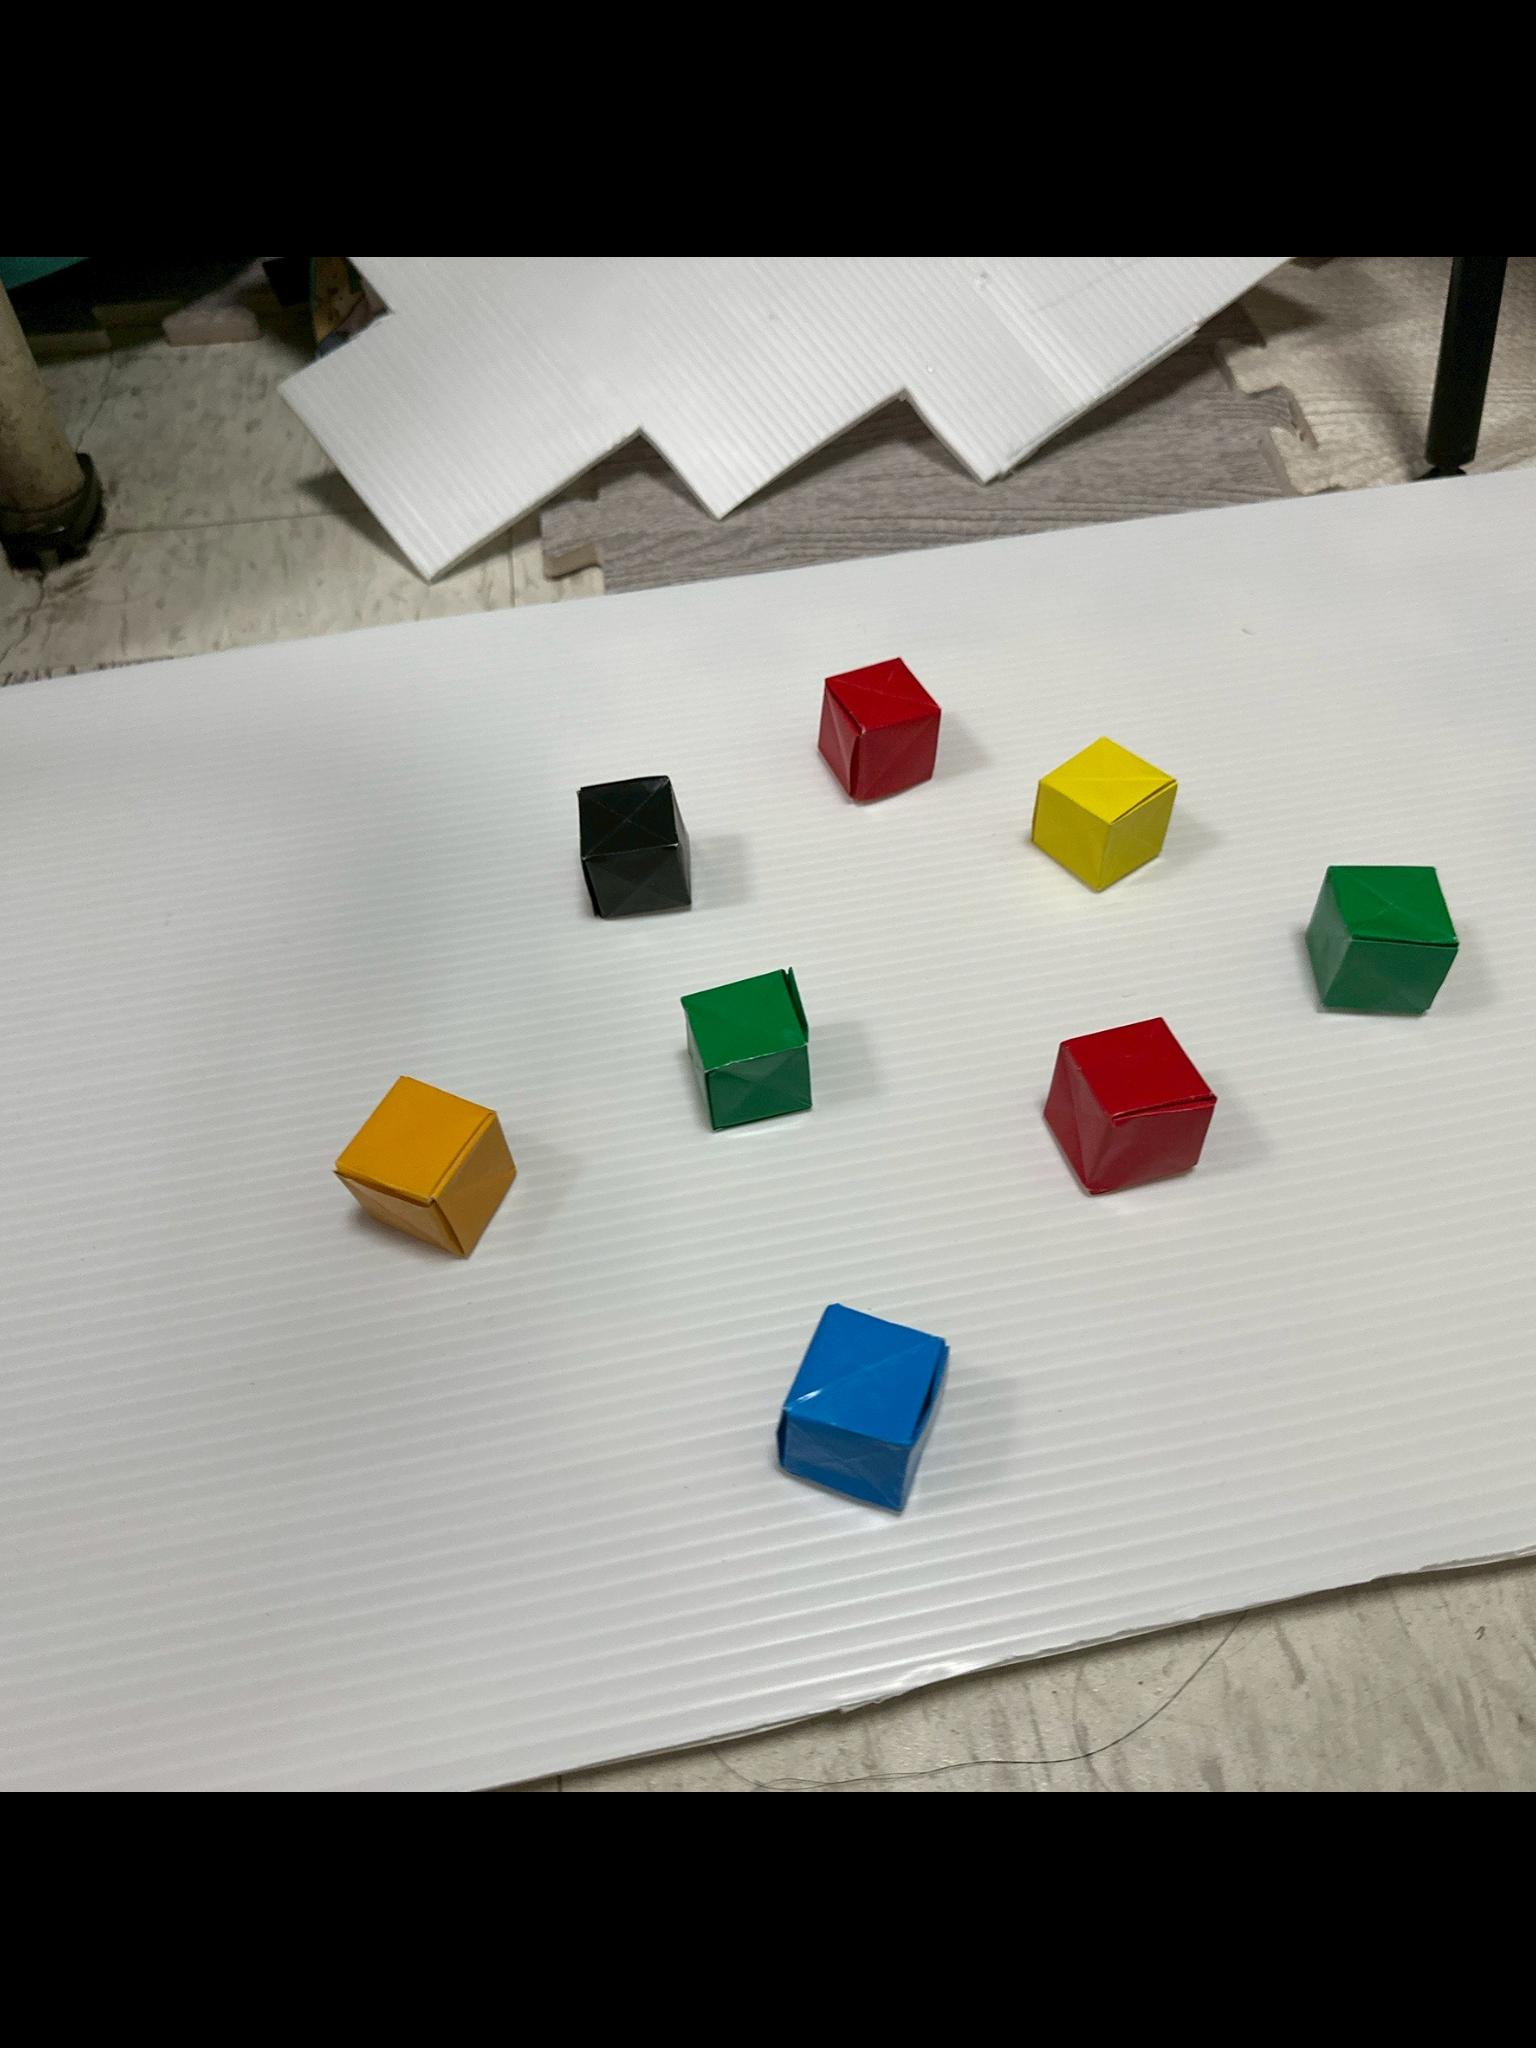base: (778, 1303, 947, 1513), (334, 1077, 515, 1256), (1044, 1019, 1217, 1193), (1305, 864, 1457, 1014), (1031, 737, 1176, 890), (682, 969, 812, 1130), (818, 656, 941, 803), (579, 776, 692, 918)
